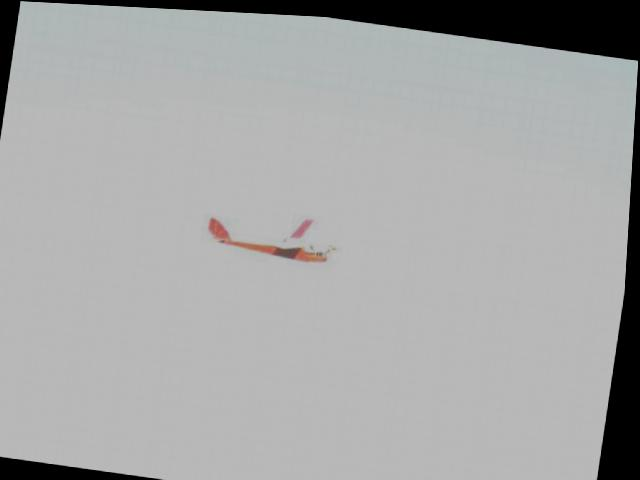iha: (196, 195, 351, 270)
